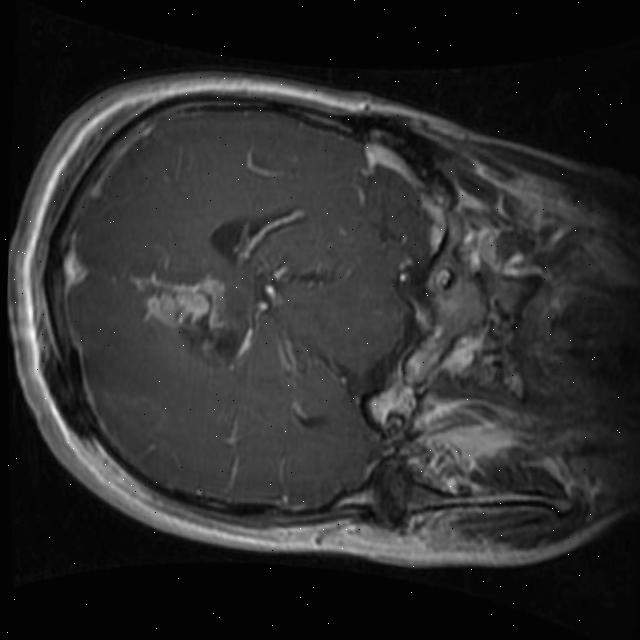Glioma: (137, 268, 242, 366), (235, 261, 298, 367), (232, 200, 308, 273)
